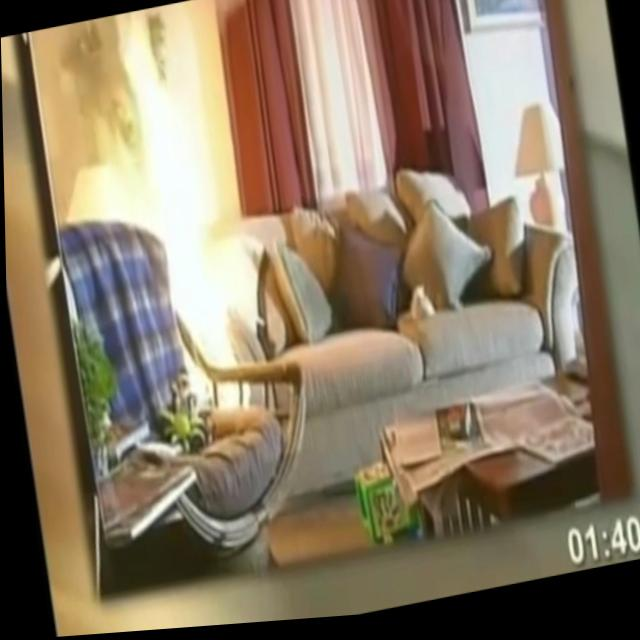fire: (102, 0, 254, 427)
